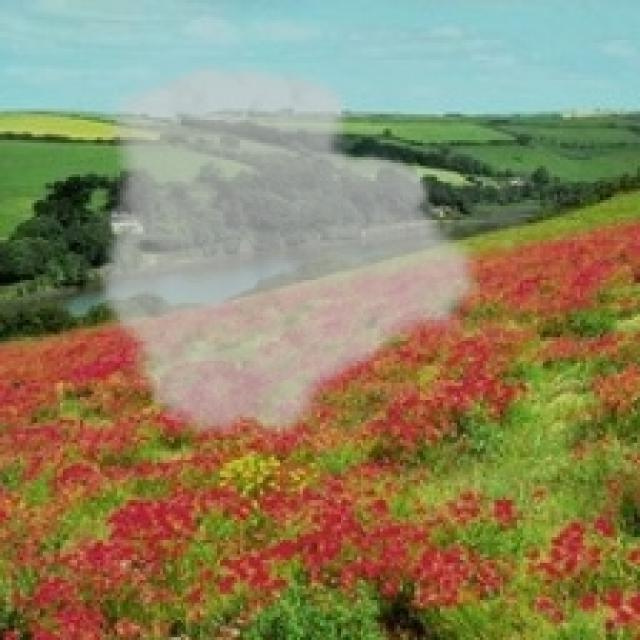smoke: (94, 57, 489, 449)
